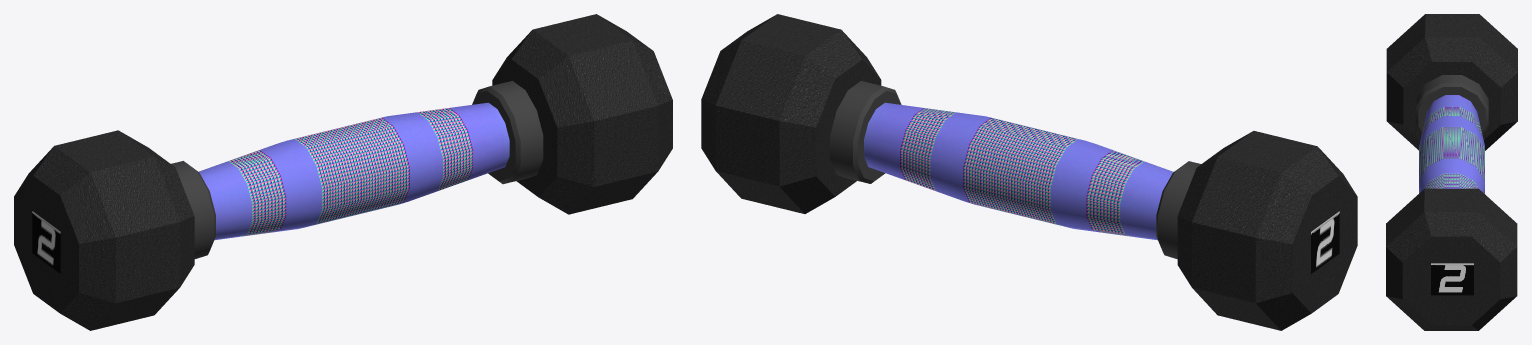
File: Dumbbell_2kG.FBX
3 renders of one model, left to right at view 1: azimuth 30°, elevation 25°; view 2: azimuth 150°, elevation 25°; view 3: azimuth 270°, elevation 25°, orthographic. The views are drawn at different scales.
Parts seen in each view (by area): view 1: Dumbbell_2kG; view 2: Dumbbell_2kG; view 3: Dumbbell_2kG.
Boxes of the visible parts, box(x1,y1,x2,y2) form: Dumbbell_2kG: box(14, 14, 672, 330); Dumbbell_2kG: box(701, 14, 1357, 330); Dumbbell_2kG: box(1386, 14, 1517, 330).
Bounding box in the file's own units: 0.2519 × 0.0647 × 0.0643.
